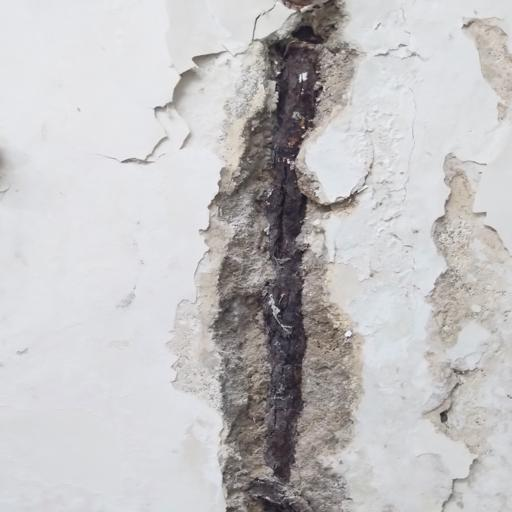spalling: (168, 3, 393, 512)
